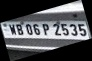character: (78, 23, 87, 36), (52, 23, 61, 35), (8, 23, 17, 34), (25, 23, 33, 35), (61, 23, 69, 35), (70, 23, 78, 35), (16, 24, 24, 35), (33, 23, 40, 35), (42, 23, 49, 35)
